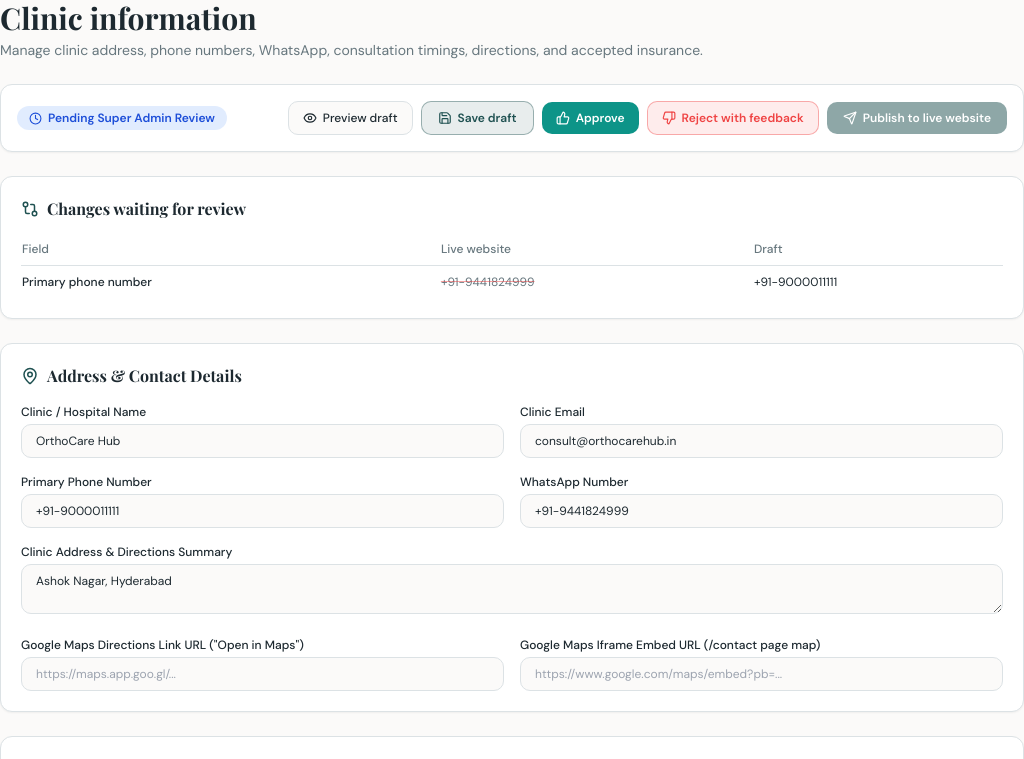
Test: Clinic Information draft workflow (005c) › CLINIC-DRAFT-05: Super Admin cannot approve while holding unsaved edits
Expected: the element with test id "workflow-status-badge" reads "Pending Super Admin Review", [48,110,215,126]
Replace the text in the field labelled "Clinic Email" with "other@example.com" at point(762, 441), box [520,424,1003,458]
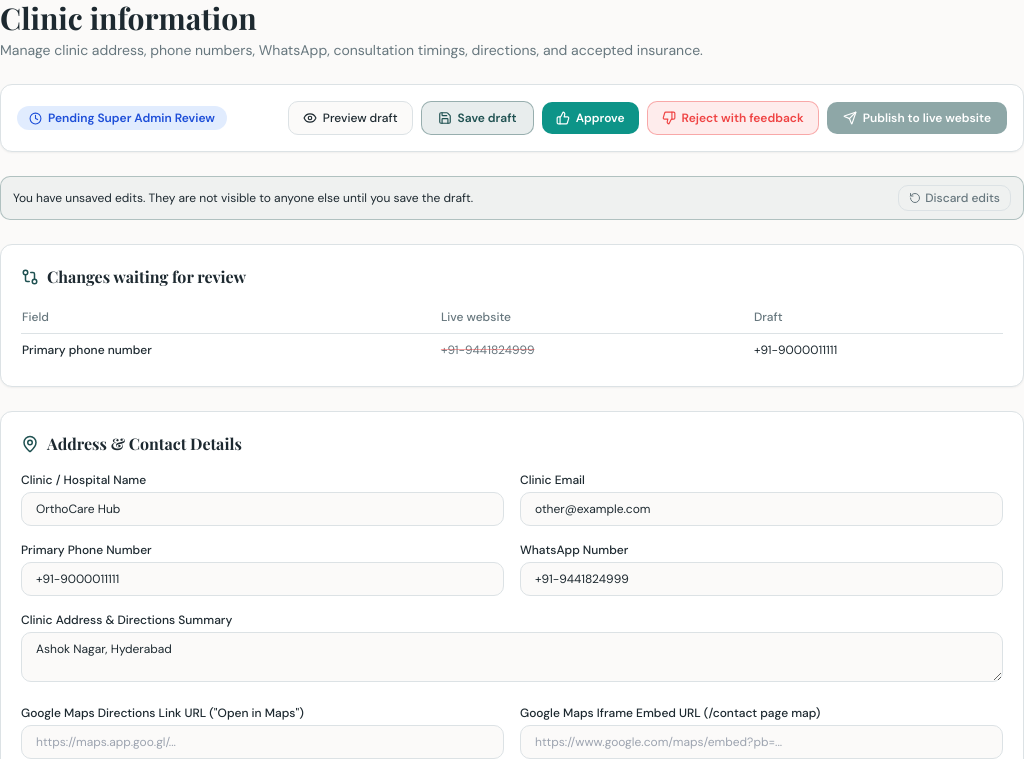
Click the button "Approve" at point(590, 118), box [542,102,638,134]
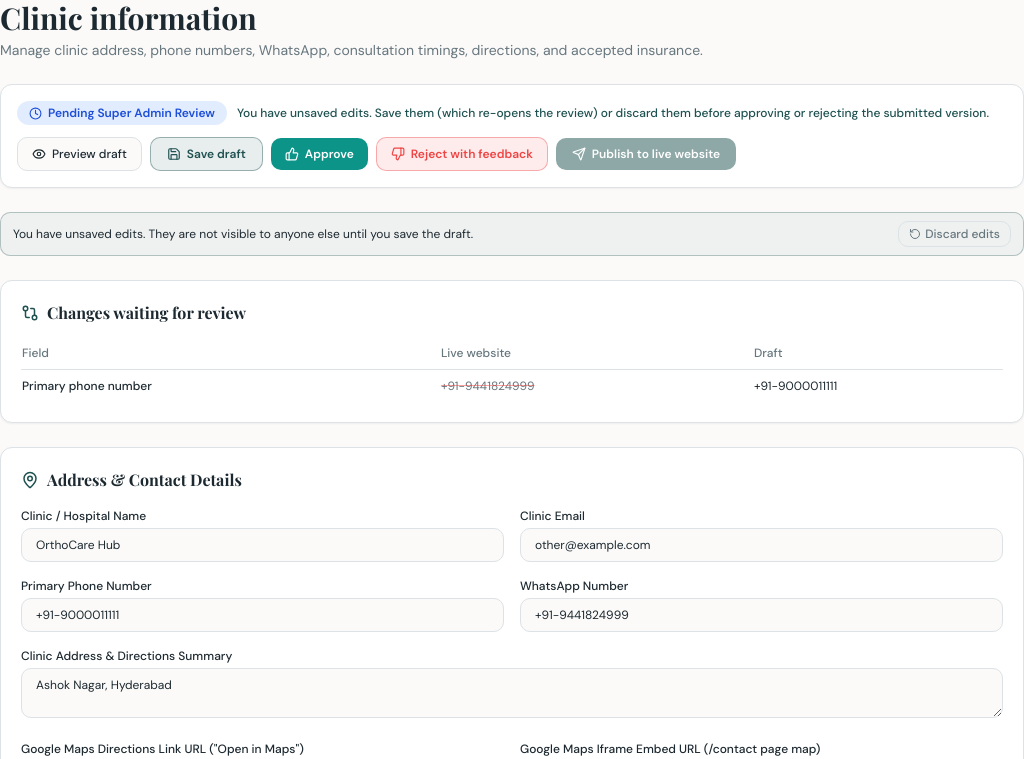
Expected: the text "You have unsaved edits. Save them" is shown, [237,105,989,121]
Click the button "Discard edits" at point(955, 234), box [898,221,1011,247]
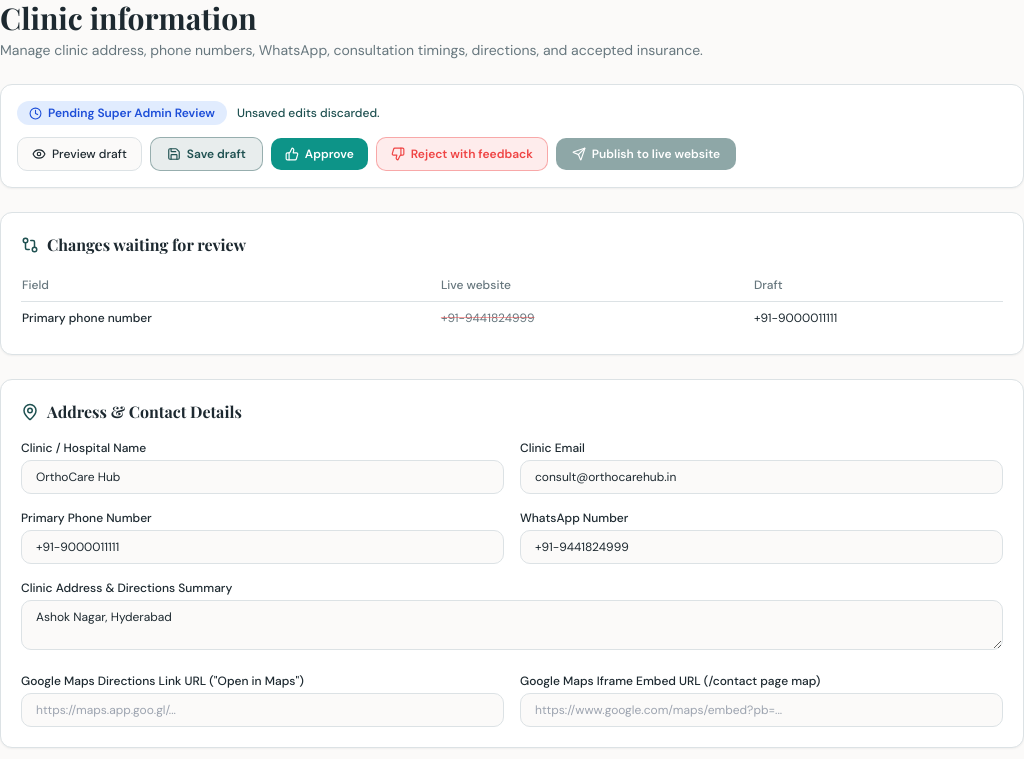
Expected: the field labelled "Clinic Email" holds "consult@orthocarehub.in", [520,460,1003,494]
